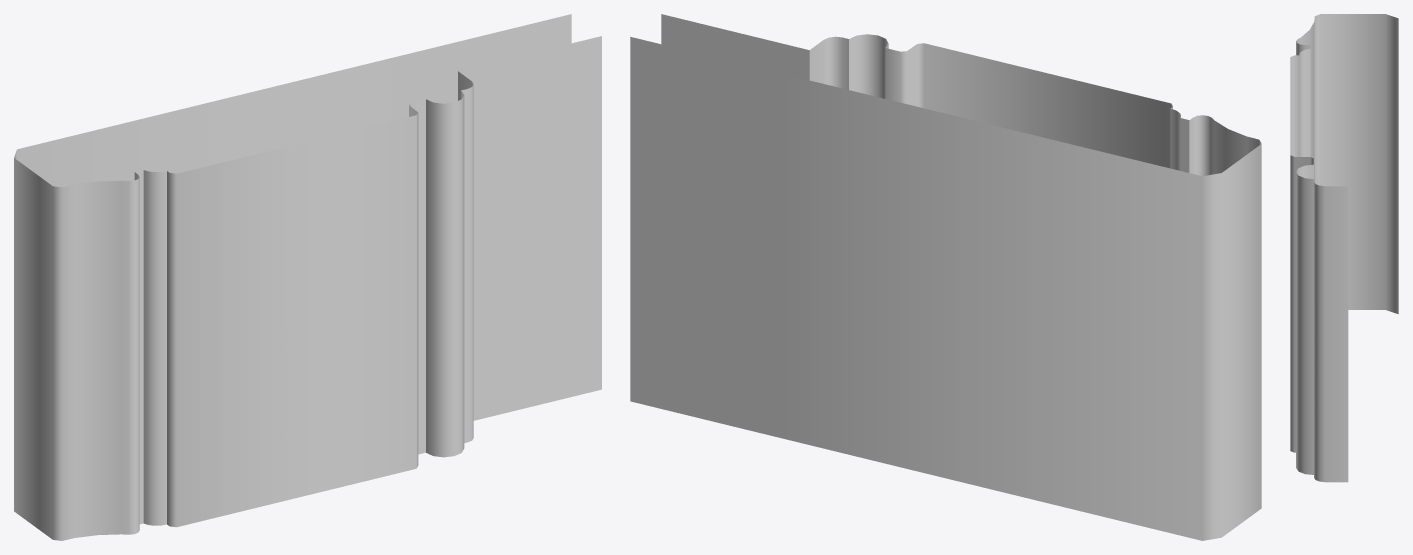
File: original-40.obj
3 renders of one model, left to right at view 1: azimuth 30°, elevation 25°; view 2: azimuth 150°, elevation 25°; view 3: azimuth 270°, elevation 25°, orthographic. The views are drawn at different scales.
Parts seen in each view (by area): view 1: DF_12_CL1/DF_12_CL/mesh28/mesh28-geometry#mesh28-geometry; view 2: DF_12_CL1/DF_12_CL/mesh28/mesh28-geometry#mesh28-geometry; view 3: DF_12_CL1/DF_12_CL/mesh28/mesh28-geometry#mesh28-geometry.
Part boxes in pixels (x1,y1,x2,y2): DF_12_CL1/DF_12_CL/mesh28/mesh28-geometry#mesh28-geometry: (14, 14, 601, 540); DF_12_CL1/DF_12_CL/mesh28/mesh28-geometry#mesh28-geometry: (630, 14, 1261, 540); DF_12_CL1/DF_12_CL/mesh28/mesh28-geometry#mesh28-geometry: (1290, 14, 1398, 482).
Size of the model in its own units: 0.1703 by 0.1017 by 0.0338.
